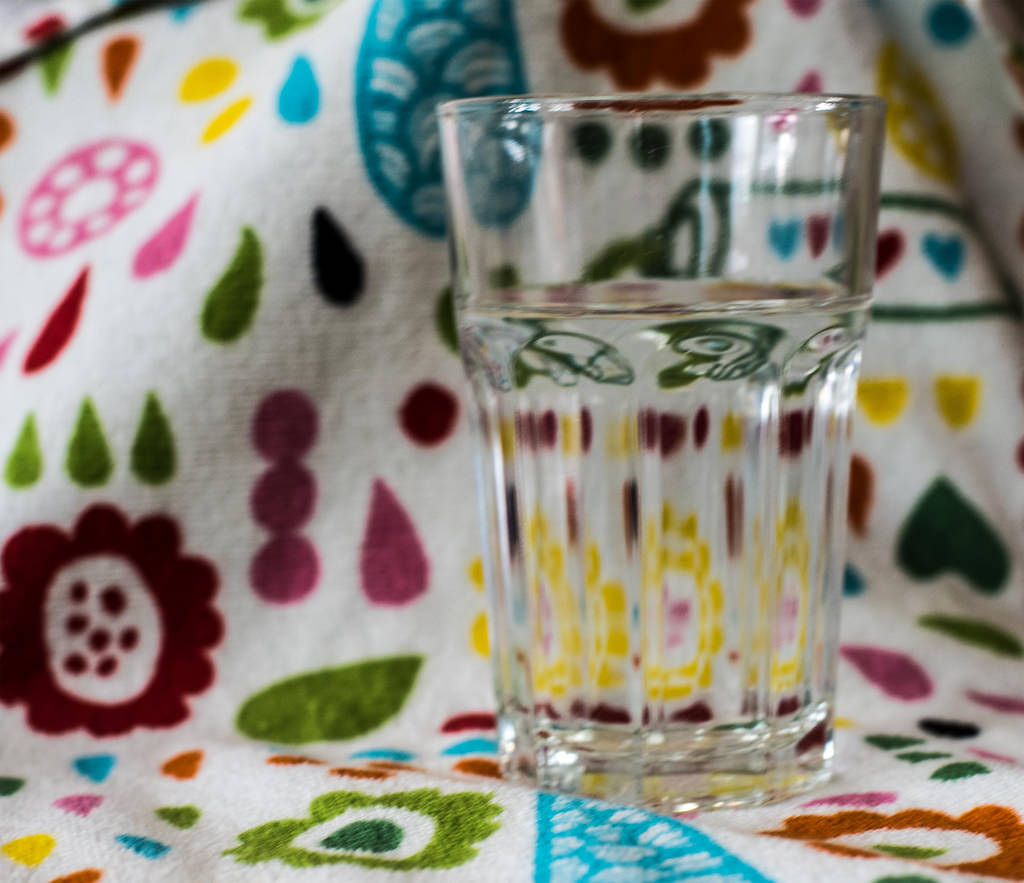glass of water: (448, 122, 834, 797)
